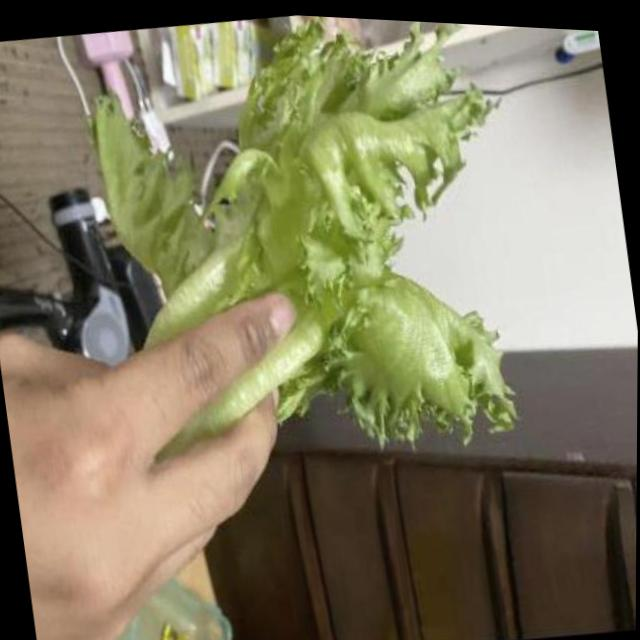Mature: (94, 16, 517, 455)
